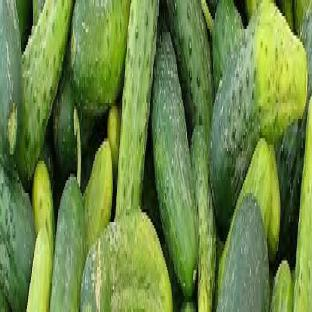Cucumber: (152, 29, 198, 299), (216, 139, 280, 299), (80, 210, 172, 311), (217, 197, 269, 311), (0, 165, 35, 311), (276, 103, 307, 266), (50, 177, 85, 311), (191, 126, 216, 311), (294, 100, 311, 311), (83, 142, 113, 250), (141, 123, 164, 247), (53, 65, 76, 180), (32, 161, 55, 263), (27, 226, 52, 311), (267, 145, 280, 263), (162, 245, 183, 311), (271, 261, 293, 311), (300, 7, 311, 102), (108, 103, 120, 186), (212, 235, 224, 311), (41, 136, 56, 192), (0, 290, 11, 311), (181, 303, 196, 311)
